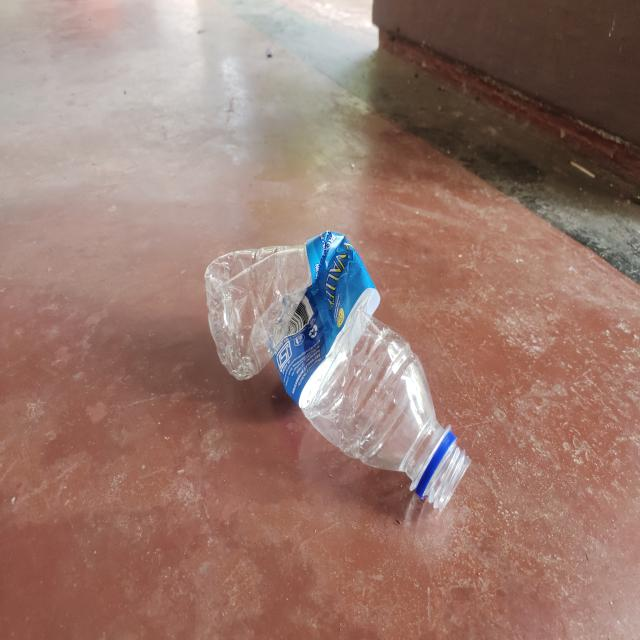plastic: (203, 230, 472, 516)
